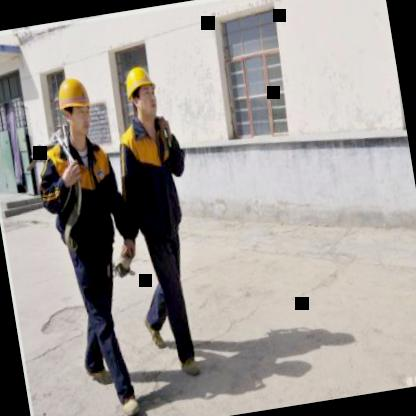helmet: (50, 67, 100, 149), (118, 56, 164, 130)
